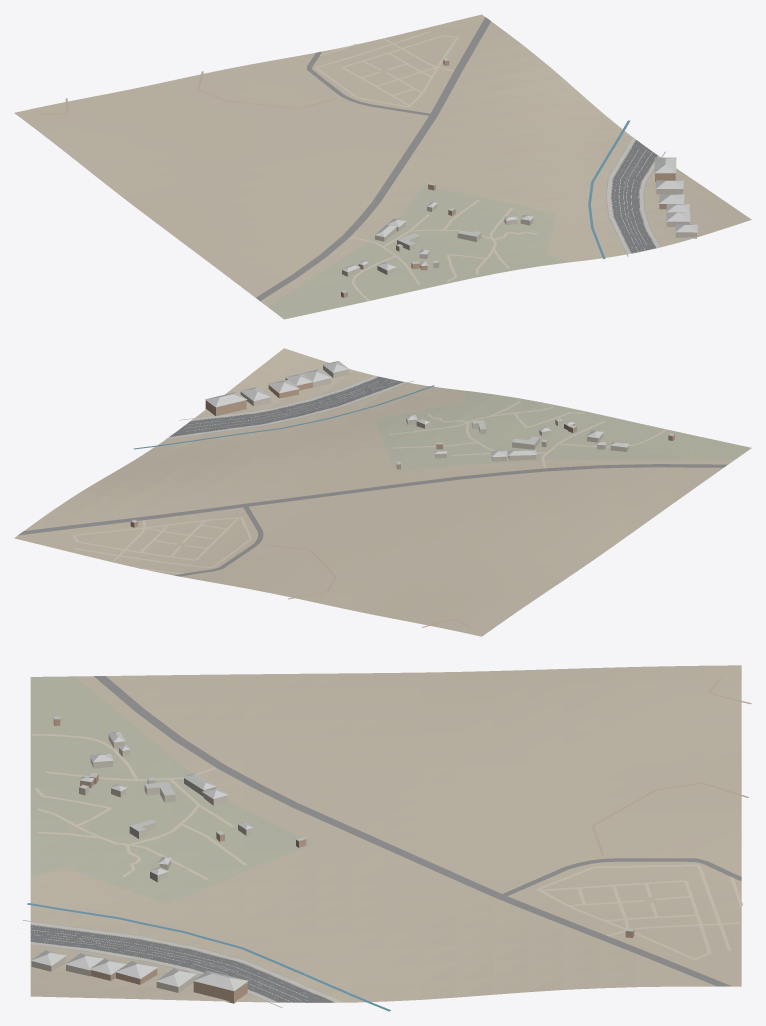
The model's file is bolak_3_-4.glb.
3 views of the same model, one above another, from view 1: azimuth 30°, elevation 25°; view 2: azimuth 150°, elevation 25°; view 3: azimuth 270°, elevation 25° (orthographic). The views are drawn at different scales.
Visible parts, largest first — view 1: Yer_Tuproq-col, Yer_Qabr, Yol_Mahalla-col, Yol_Piyoda, Yol_Asfalt-col, Tom_Shifer, Devor_Suvoq-col, Trotuar; view 2: Yer_Tuproq-col, Yer_Qabr, Yol_Mahalla-col, Yol_Piyoda, Yol_Asfalt-col, Tom_Shifer, Devor_Suvoq-col, Trotuar, Devor_Gisht-col, Suv; view 3: Yer_Tuproq-col, Yer_Qabr, Yol_Mahalla-col, Yol_Asfalt-col, Yol_Piyoda, Tom_Shifer, Devor_Suvoq-col, Trotuar, Devor_Gisht-col, Suv, Yol_Chiziq, Ariq (+1 smaller).
Part boxes in pixels (left/top/right/bottom): Yer_Tuproq-col: left=14, top=14, right=751, bottom=308; Yer_Qabr: left=246, top=185, right=569, bottom=319; Yol_Mahalla-col: left=256, top=17, right=491, bottom=300; Yol_Piyoda: left=315, top=31, right=537, bottom=300; Yol_Asfalt-col: left=611, top=140, right=657, bottom=253; Tom_Shifer: left=341, top=58, right=697, bottom=292; Devor_Suvoq-col: left=342, top=189, right=696, bottom=276; Trotuar: left=606, top=137, right=660, bottom=253; Yer_Tuproq-col: left=14, top=348, right=735, bottom=636; Yer_Qabr: left=373, top=390, right=751, bottom=474; Yol_Mahalla-col: left=18, top=464, right=727, bottom=576; Yol_Piyoda: left=72, top=401, right=666, bottom=573; Yol_Asfalt-col: left=169, top=376, right=403, bottom=437; Tom_Shifer: left=131, top=361, right=674, bottom=522; Devor_Suvoq-col: left=240, top=365, right=628, bottom=461; Trotuar: left=166, top=375, right=408, bottom=439; Devor_Gisht-col: left=130, top=378, right=674, bottom=527; Suv: left=133, top=385, right=434, bottom=449; Yer_Tuproq-col: left=30, top=665, right=741, bottom=1002; Yer_Qabr: left=30, top=675, right=314, bottom=903; Yol_Mahalla-col: left=94, top=676, right=741, bottom=986; Yol_Asfalt-col: left=30, top=924, right=334, bottom=1002; Yol_Piyoda: left=31, top=734, right=742, bottom=959; Tom_Shifer: left=31, top=716, right=633, bottom=990; Devor_Suvoq-col: left=31, top=735, right=252, bottom=992; Trotuar: left=30, top=921, right=342, bottom=1002; Devor_Gisht-col: left=53, top=718, right=634, bottom=1003; Suv: left=27, top=903, right=390, bottom=1011; Yol_Chiziq: left=15, top=923, right=313, bottom=1005; Ariq: left=23, top=920, right=319, bottom=1007.
Size of what is drawn, in the model's own units: 413 by 23.64 by 415.
